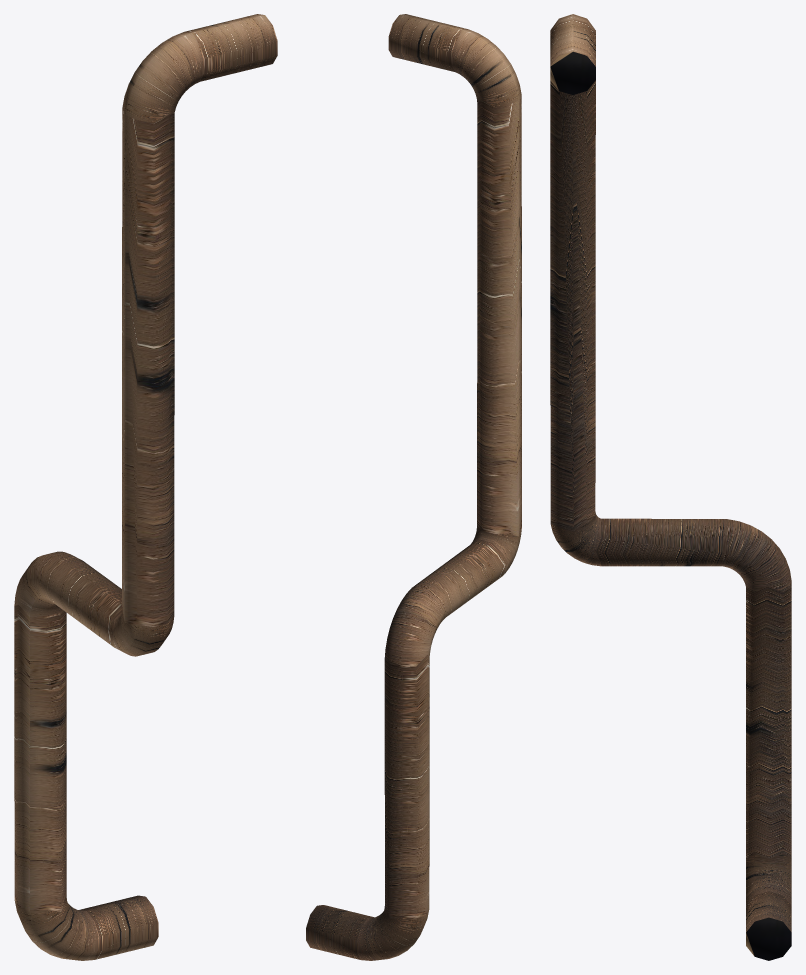
File: wallPipe2_500.fbx
The picture shows the model from 3 angles, left to right: view 1: azimuth 30°, elevation 25°; view 2: azimuth 150°, elevation 25°; view 3: azimuth 270°, elevation 25°; orthographic projection. The views are drawn at different scales.
Visible parts, largest first — view 1: pipeB200; view 2: pipeB200; view 3: pipeB200.
Boxes of the visible parts, x1,y1,x2,y2 form: pipeB200: (14,14,277,960); pipeB200: (306,14,521,960); pipeB200: (550,14,791,960).
Size of the model in its own units: 0.8337 by 5.73 by 1.37.
